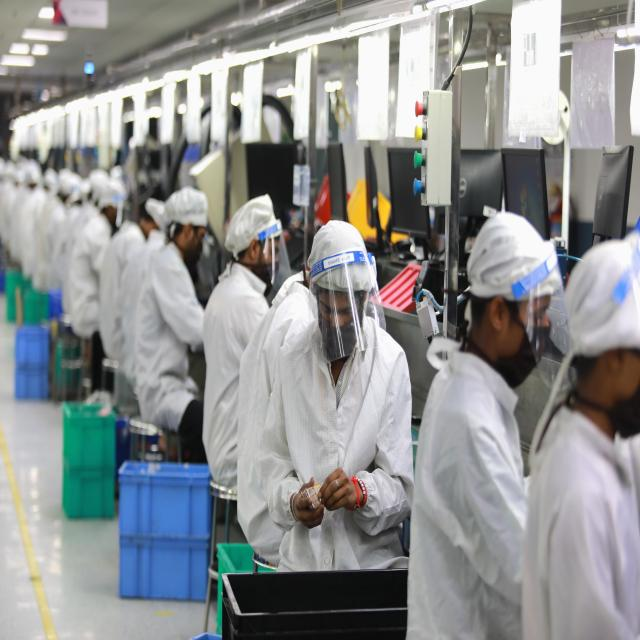Safety-Helmet: (560, 228, 640, 366), (461, 204, 563, 306), (305, 212, 374, 283), (222, 189, 284, 256), (157, 180, 211, 231)
